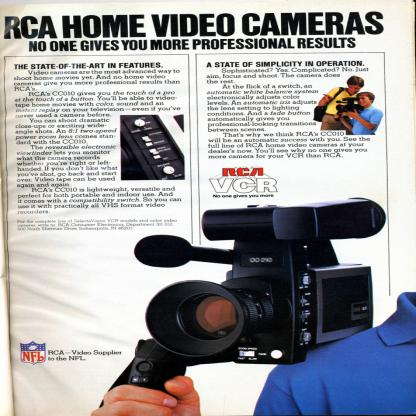Camera: (110, 212, 389, 388), (335, 98, 362, 114)
